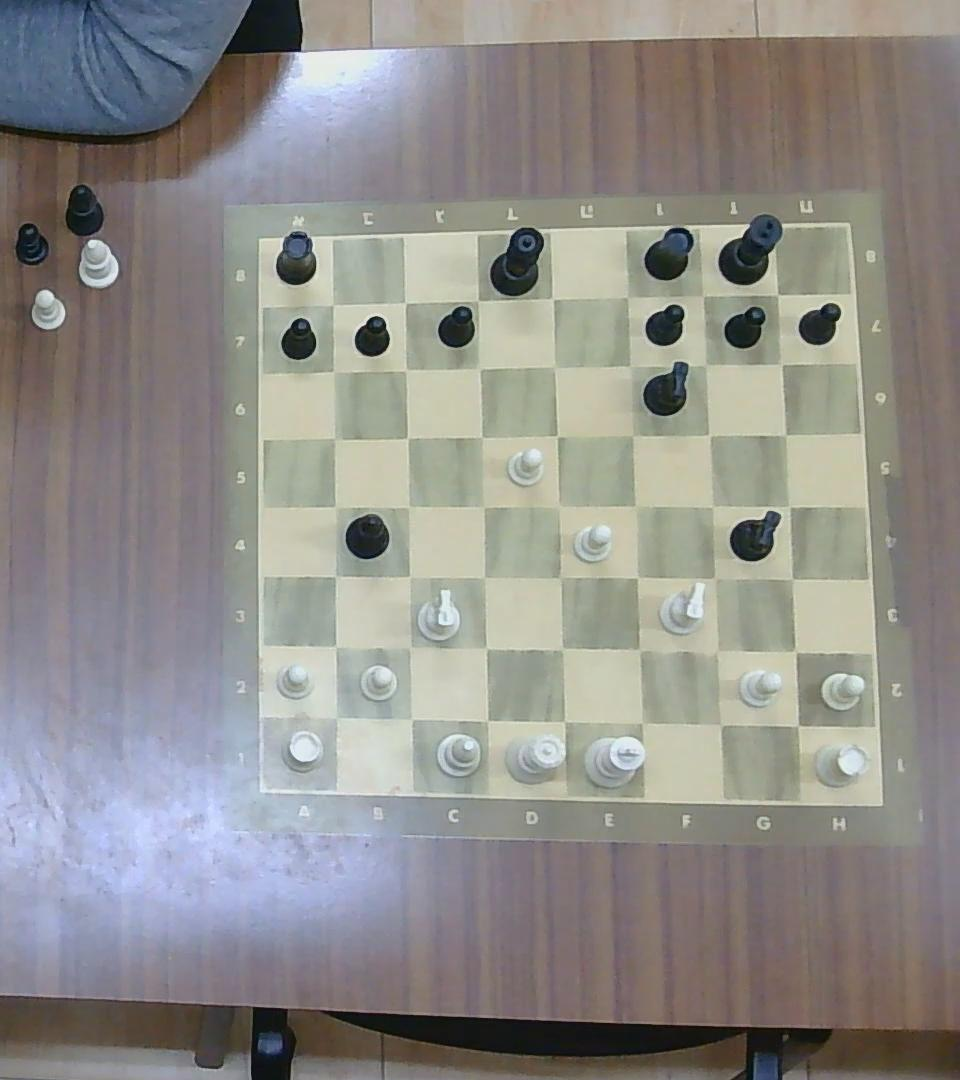xcorner: (702, 705, 736, 739), (624, 705, 658, 738), (781, 707, 813, 740), (700, 635, 732, 667), (546, 633, 578, 665), (624, 633, 655, 665), (470, 703, 501, 734), (470, 632, 501, 663), (548, 704, 578, 736), (395, 703, 425, 734), (621, 561, 651, 592), (320, 701, 350, 732), (780, 636, 811, 666), (545, 561, 574, 592), (699, 563, 728, 593), (394, 633, 424, 662), (320, 631, 350, 660), (469, 491, 498, 520), (394, 562, 423, 591), (622, 491, 651, 520), (470, 562, 498, 591), (545, 491, 573, 520), (320, 561, 349, 589), (617, 421, 646, 449), (776, 565, 806, 592), (543, 421, 571, 449), (467, 421, 495, 448), (774, 492, 802, 519), (699, 492, 726, 519), (318, 292, 345, 318), (617, 352, 643, 379), (395, 493, 423, 518), (540, 285, 566, 311), (320, 424, 347, 449), (394, 424, 420, 449), (696, 421, 722, 446), (615, 284, 641, 309), (319, 358, 345, 383), (323, 493, 348, 518), (541, 353, 566, 378), (465, 288, 491, 312), (693, 352, 718, 376), (690, 283, 715, 307), (467, 355, 491, 380), (768, 350, 793, 374), (393, 357, 417, 381), (773, 421, 797, 445), (766, 283, 790, 306), (392, 290, 415, 313)
